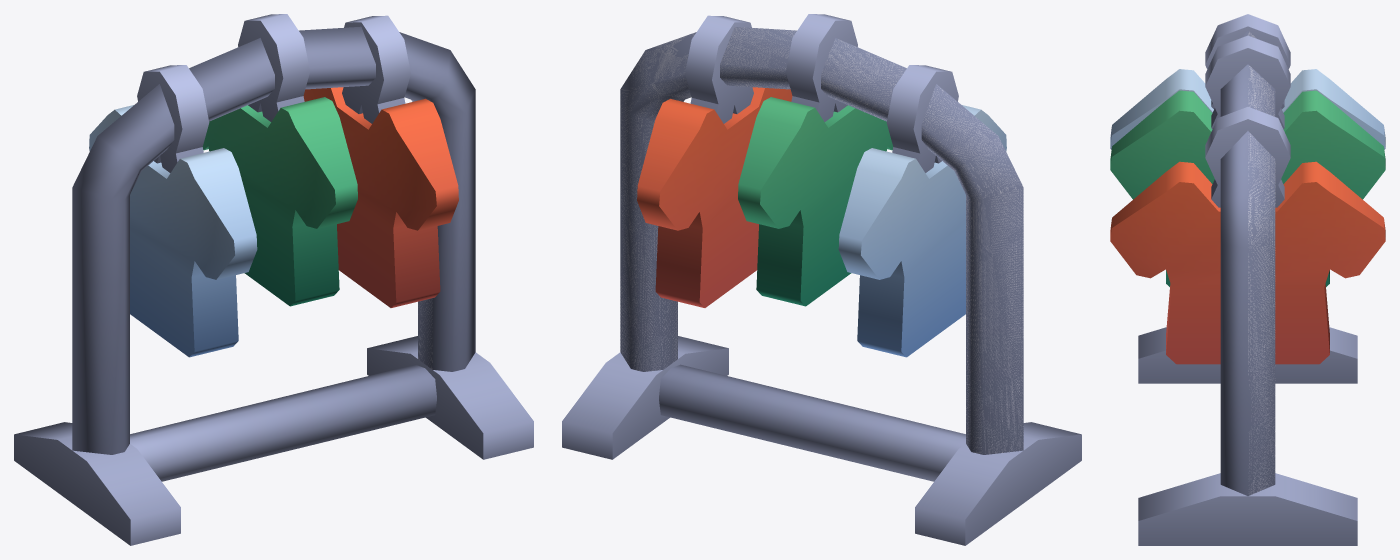
File: clothing-rack.glb
3 renders of one model, left to right at view 1: azimuth 30°, elevation 25°; view 2: azimuth 150°, elevation 25°; view 3: azimuth 270°, elevation 25°, orthographic. The views are drawn at different scales.
Parts seen in each view (by area): view 1: clothing-rack; view 2: clothing-rack; view 3: clothing-rack.
Boxes of the visible parts, x1,y1,x2,y2 form: clothing-rack: [14, 14, 533, 545]; clothing-rack: [562, 14, 1081, 545]; clothing-rack: [1110, 14, 1385, 545].
Size of the model in its own units: 0.8 by 0.828 by 0.5021.
1 material, 1 textured.
